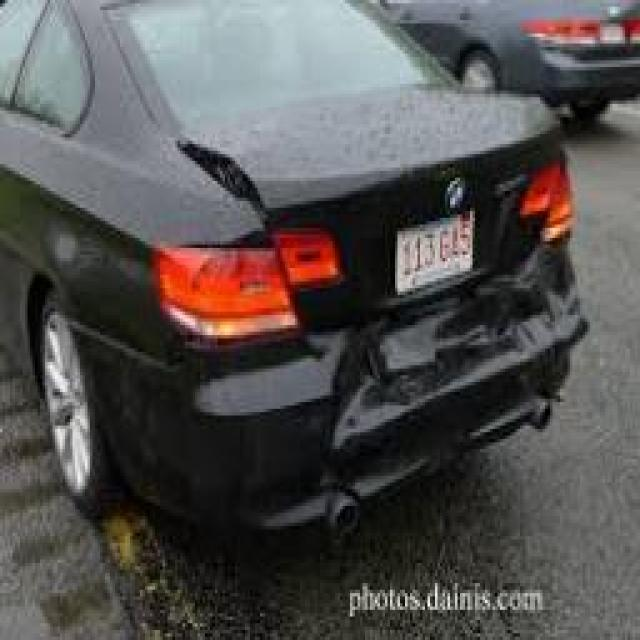replaceable: (342, 275, 600, 457)
